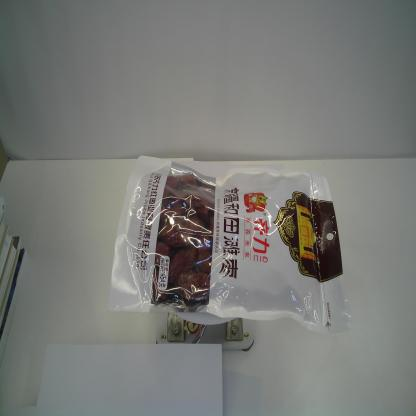Dried Food: (108, 152, 353, 335)
